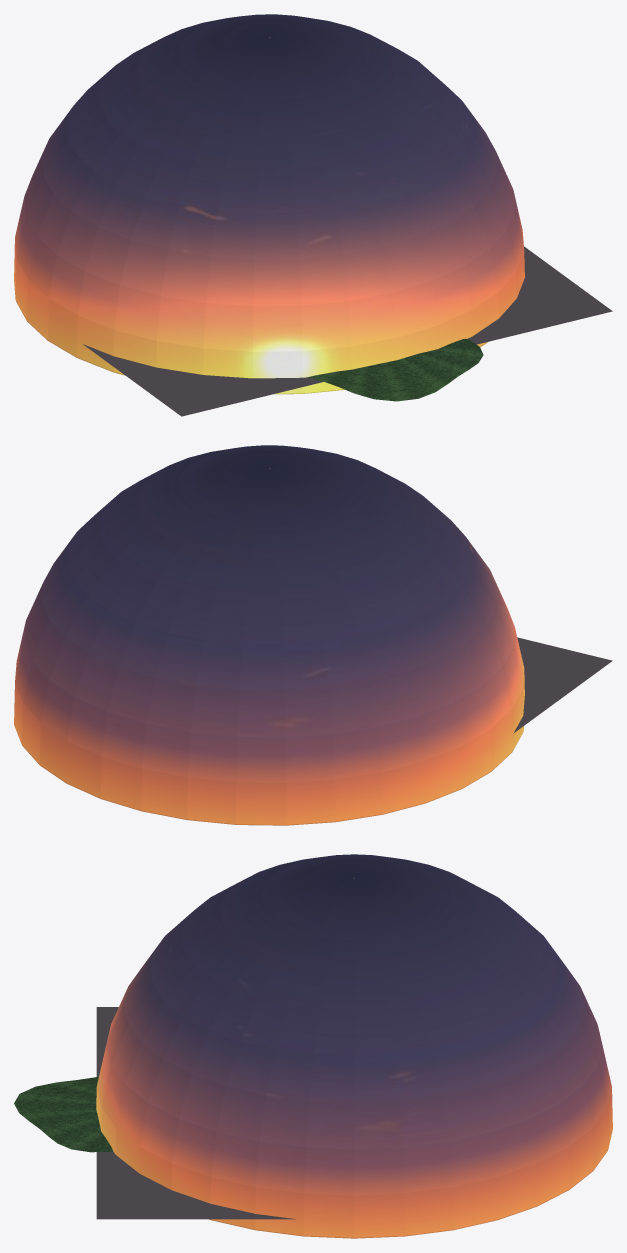
The model's file is lugar-manaos-ciudad.glb.
3 renders of one model, top to bottom at view 1: azimuth 30°, elevation 25°; view 2: azimuth 150°, elevation 25°; view 3: azimuth 270°, elevation 25°, orthographic.
Parts seen in each view (by area): view 1: planoC, vertT; view 2: planoC; view 3: planoC, vertT.
Part boxes in pixels (<box>): planoC: <box>14,14,612,416</box>; vertT: <box>307,338,483,401</box>; planoC: <box>14,445,612,825</box>; planoC: <box>96,854,612,1238</box>; vertT: <box>14,1076,113,1152</box>.
Bounding box in the file's own units: 6584 × 3530 × 7625.
Materials: 11 (9 with a texture image).
